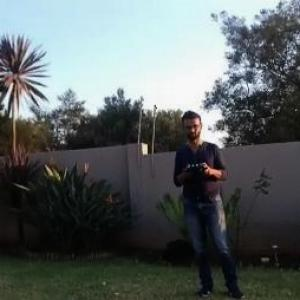follow: (168, 104, 250, 299)
